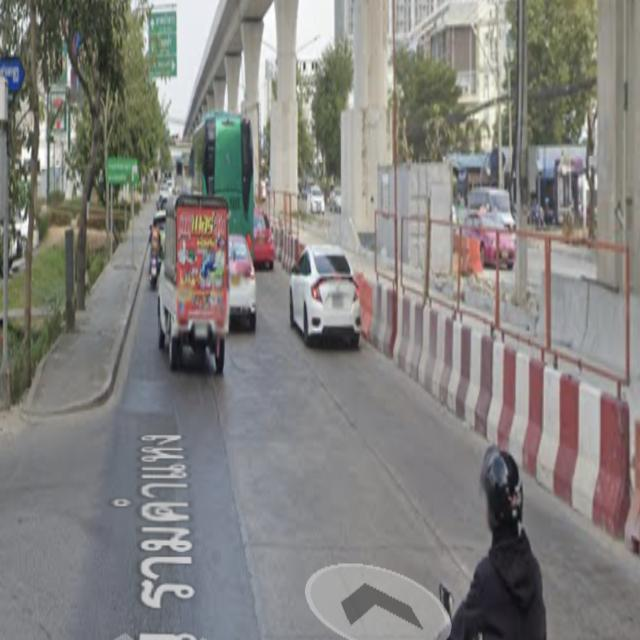fallen_object: (351, 266, 640, 531)
